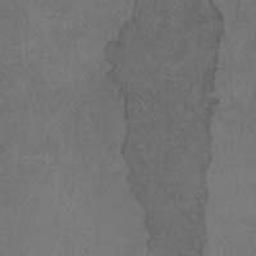Water spot: (104, 0, 225, 256)
